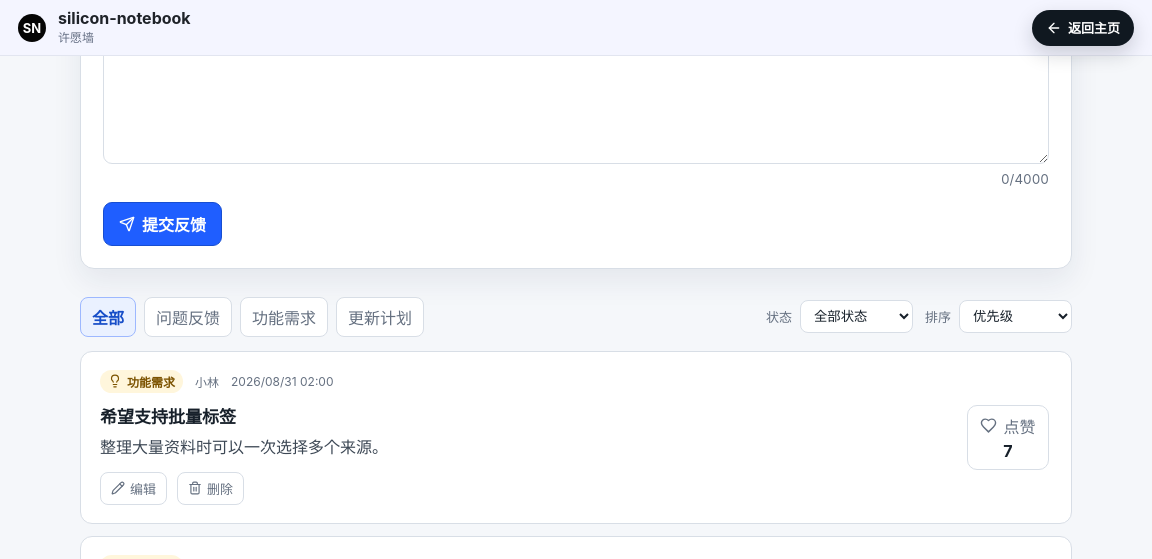
Test case: 编辑校验与保存失败都在编辑区旁提示并保留草稿
The width and height of the screenshot is (1152, 559).
(page scrolled)
Check: the text "希望支持批量标签" is shown, box [100,407,236,427]
Click the button "编辑". click: (134, 488)
box: [100,472,167,505]
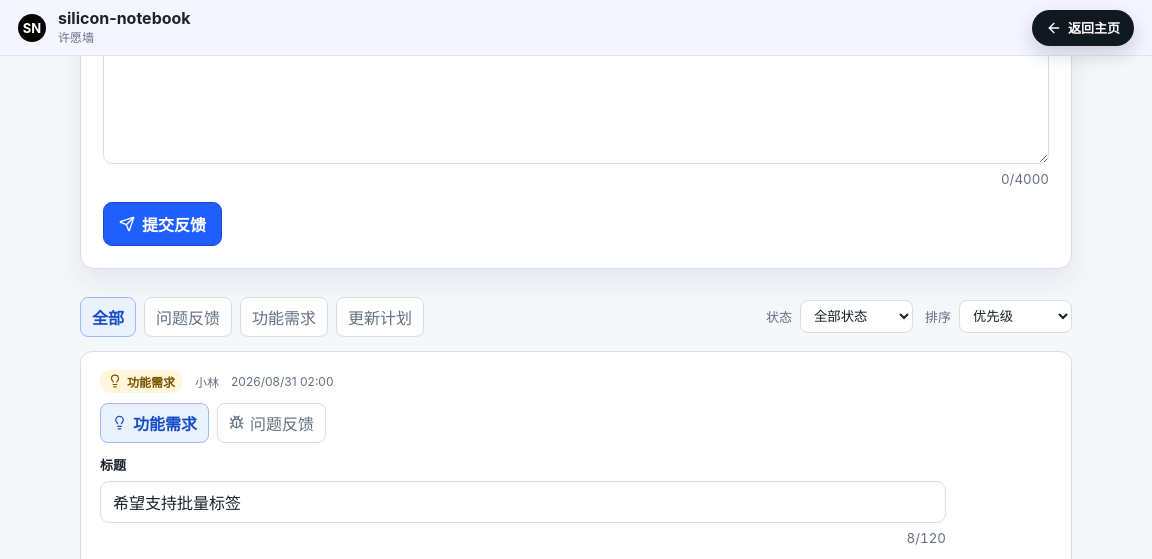
Clear the field named "修改标题". click: (523, 502)
box: [100,481,946,523]
(page scrolled)
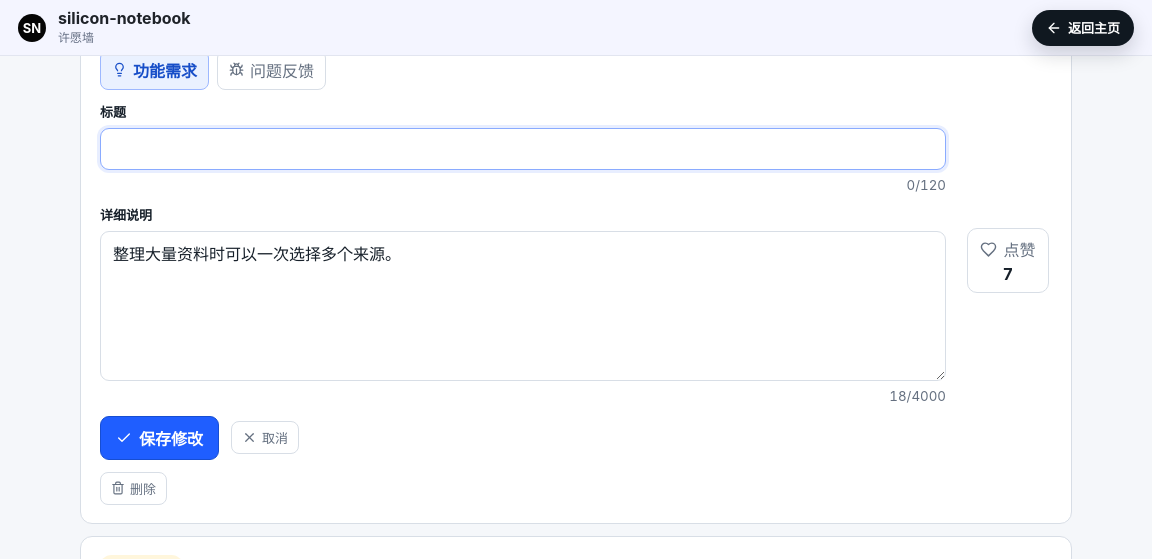
Click the button "保存修改". click: (160, 438)
box: [100,416,219,460]
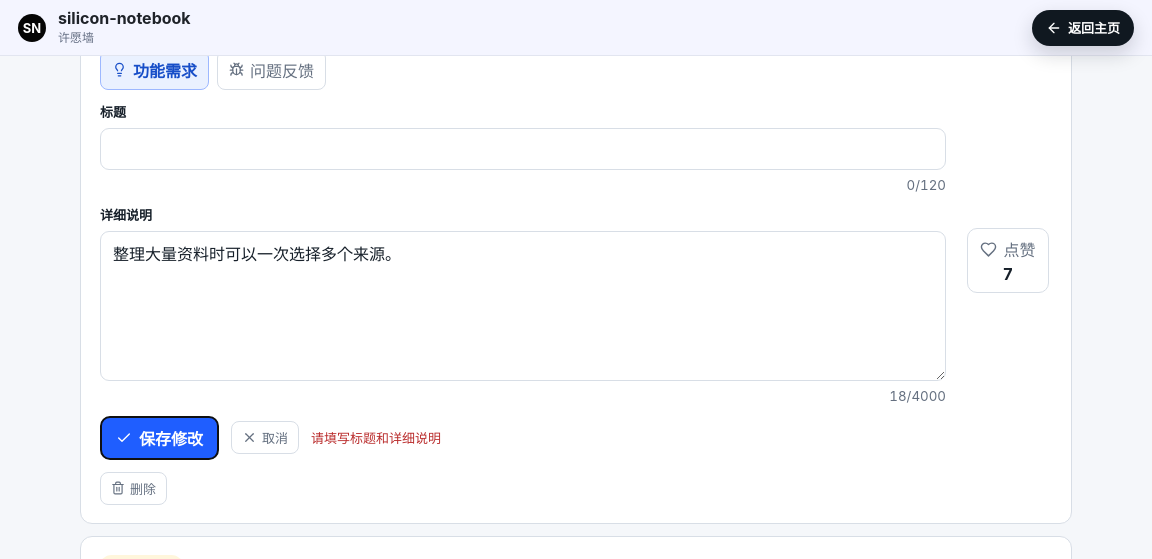
Check: the message reads "请填写标题和详细说明", box [311,430,441,446]
Type "新标题" into the field named "修改标题". click: (523, 149)
box: [100,128,946,170]
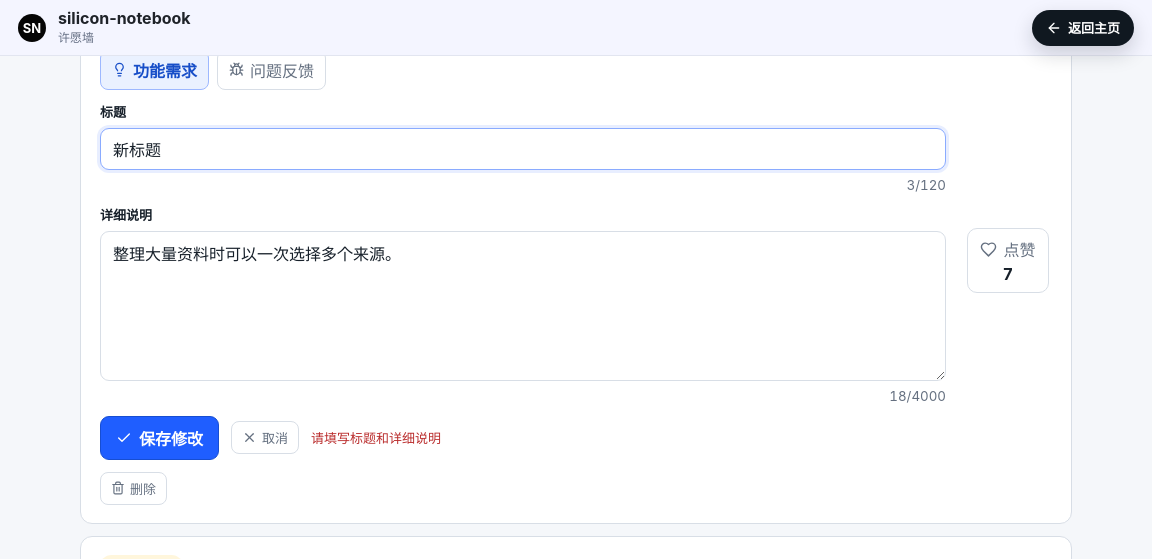
Click the button "保存修改". click: (160, 438)
box: [100,416,219,460]
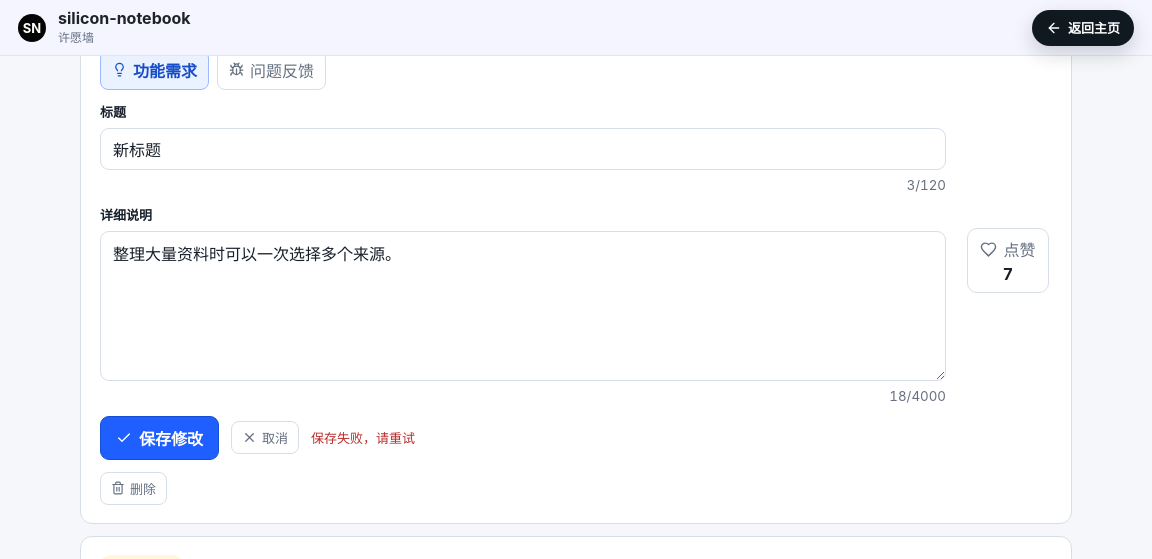
Check: the message reads "保存失败，请重试", box [311,430,415,446]
Click the button "取消". click: (265, 438)
box: [231,421,299,454]
(page scrolled)
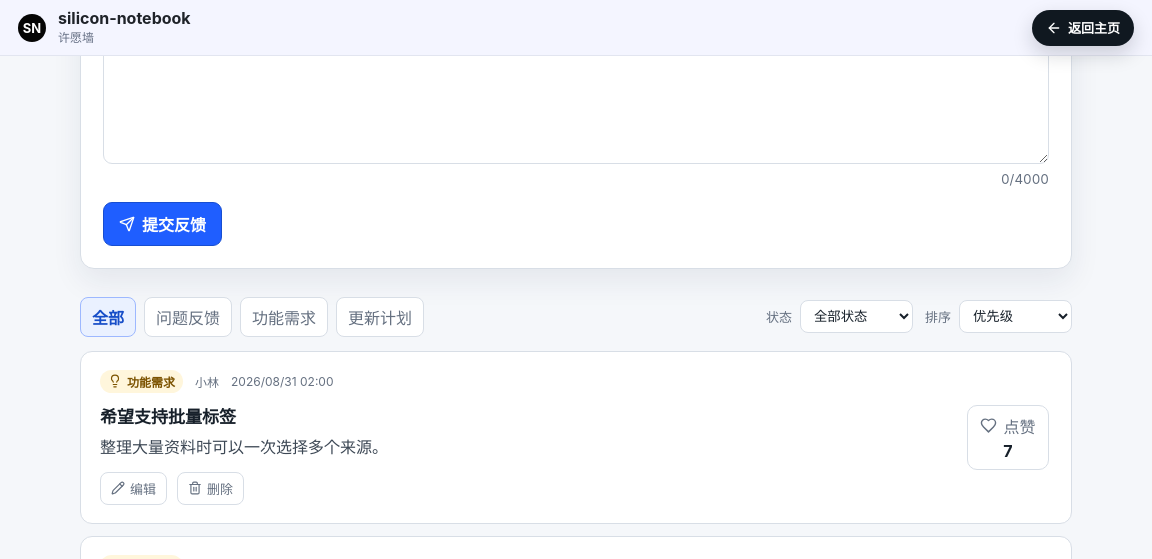
Check: the field labelled "修改标题" is gone
Check: the heading "希望支持批量标签" is shown, box [100,407,236,427]
